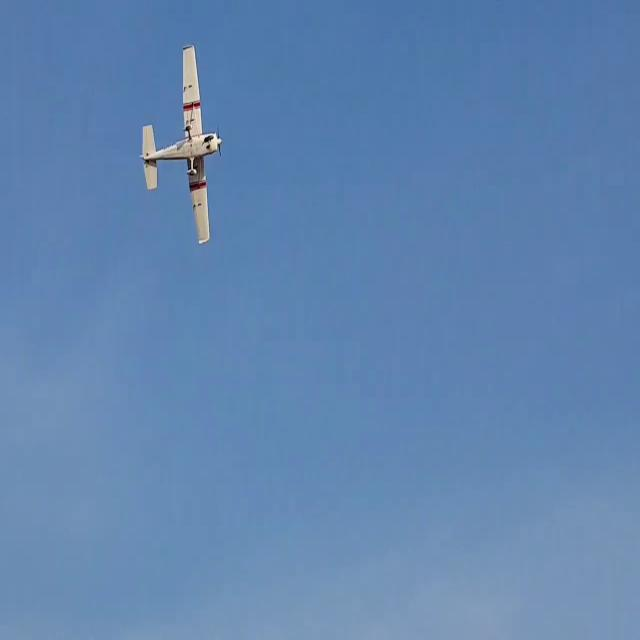iha: (175, 53, 189, 246)
